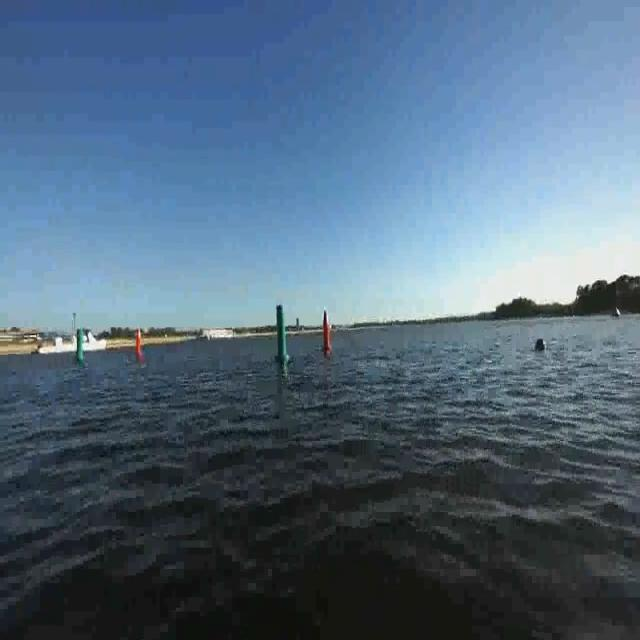black-buoy: (534, 336, 546, 355)
green-column-buoy: (273, 302, 291, 364), (75, 326, 83, 365)
red-column-buoy: (321, 309, 332, 353), (136, 330, 143, 356)
